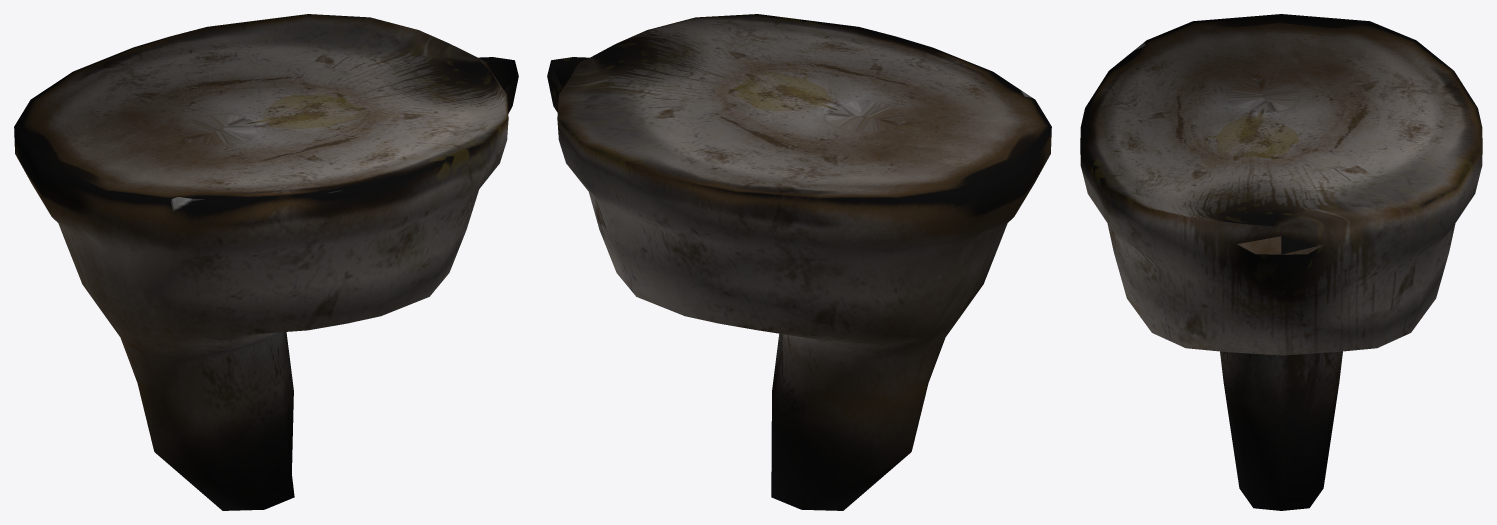
The model's file is Toilet Water.fbx.
The picture shows the model from 3 angles, left to right: view 1: azimuth 30°, elevation 25°; view 2: azimuth 150°, elevation 25°; view 3: azimuth 270°, elevation 25°; orthographic projection.
Visible parts, largest first — view 1: Object_2.001; view 2: Object_2.001; view 3: Object_2.001.
Part boxes in pixels (box(x1,y1,x2,y2)): Object_2.001: box(14, 14, 518, 510); Object_2.001: box(547, 14, 1051, 510); Object_2.001: box(1080, 14, 1482, 510).
Bounding box in the file's own units: 383 × 302 × 283.
